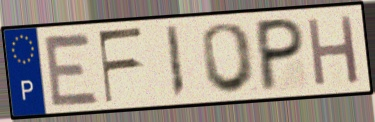E: (41, 31, 102, 109)
F: (95, 25, 145, 106)
H: (304, 12, 362, 89)
I: (163, 23, 187, 101)
O: (200, 21, 259, 96)
P: (256, 16, 307, 95)
